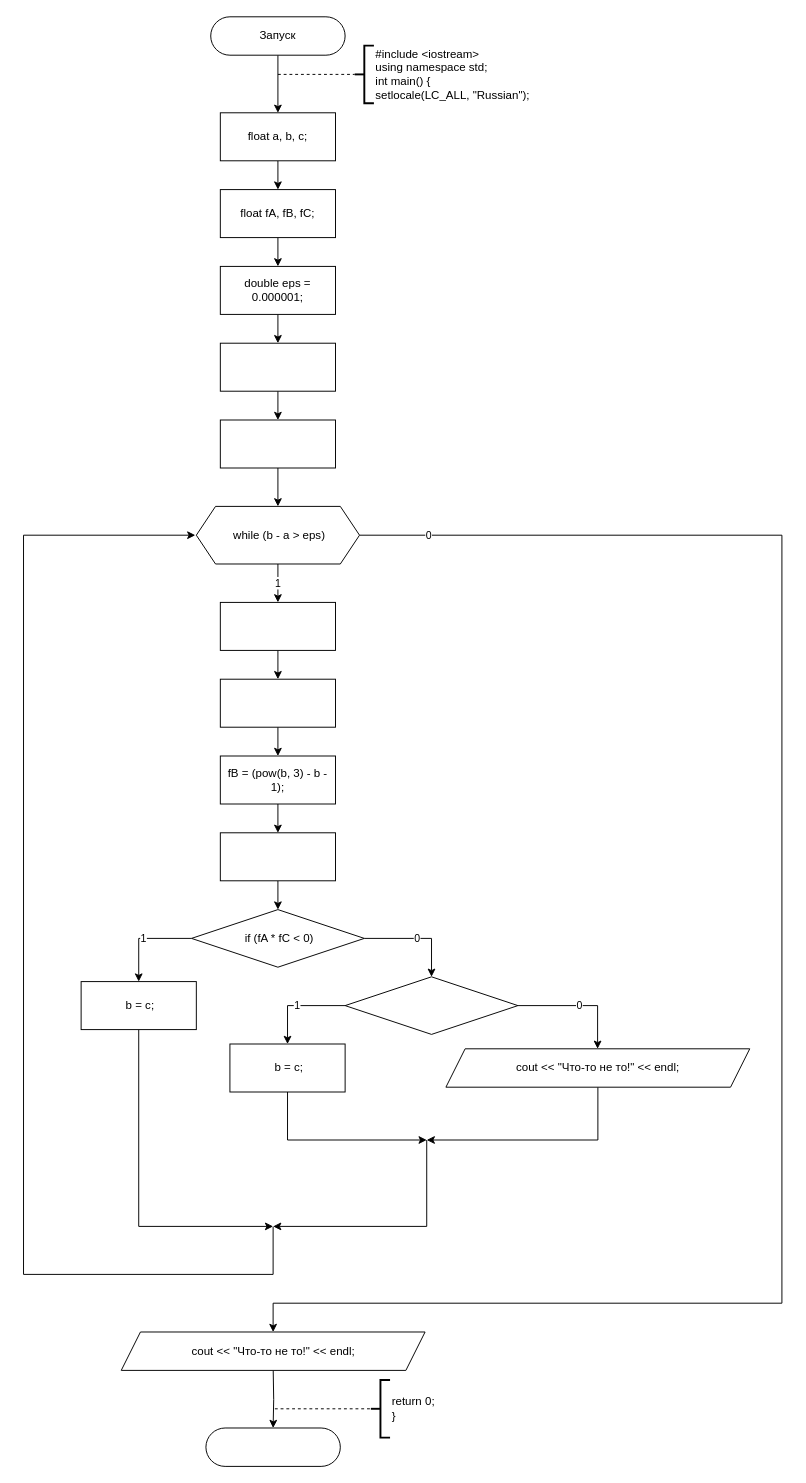
Some shapes in this 806 by 1483 pixel diagram are drawn without their labels. The shapes that lost their labels are listed below. From the top down, each one's centre as x and y in pixels, then its label:
At pixel 277 366: "a = 1;".
At pixel 277 443: "b = 2;".
At pixel 277 625: "c = (a + b) / 2;".
At pixel 277 702: "fA = (pow(a, 3) - a - 1);".
At pixel 277 856: "fC = (pow(c, 3) - c - 1);".
At pixel 431 1005: "if (fC * fB < 0)".
At pixel 272 1446: "Конец".
